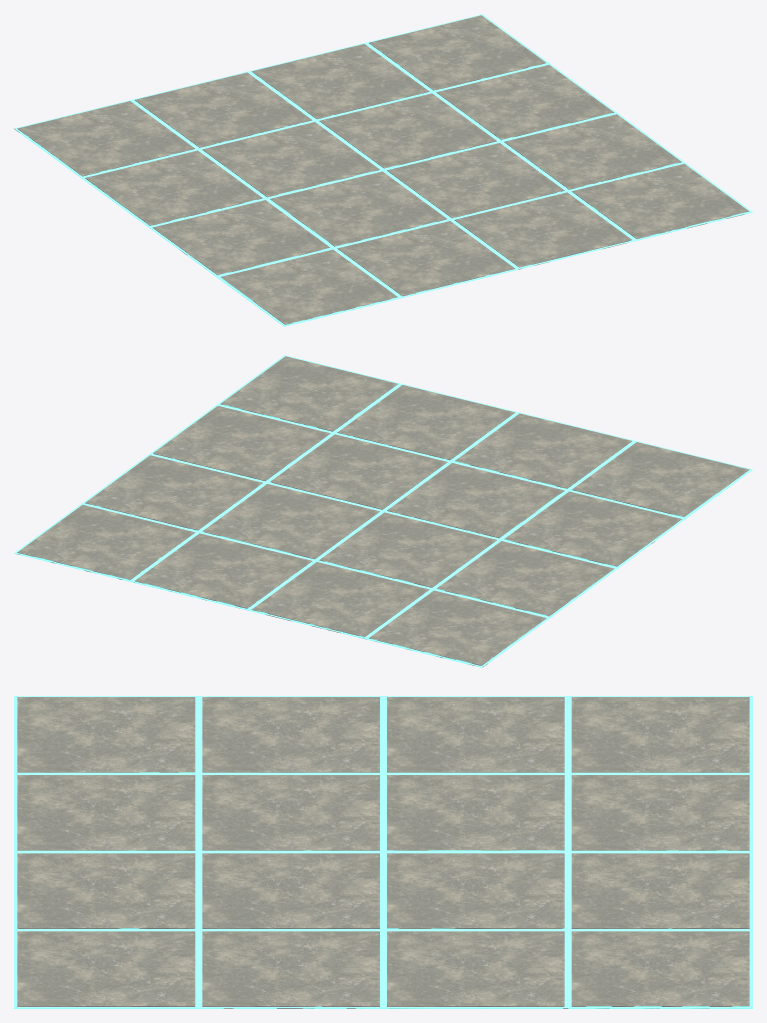
Rendered from concrete.glb.
The picture shows the model from 3 angles, top to bottom: view 1: azimuth 30°, elevation 25°; view 2: azimuth 150°, elevation 25°; view 3: azimuth 270°, elevation 25°; orthographic projection. The views are drawn at different scales.
Visible parts, largest first — view 1: concrete; view 2: concrete; view 3: concrete.
Part boxes in pixels (x1,y1,x2,y2): concrete: (14,14,752,326); concrete: (14,355,752,667); concrete: (14,696,752,1008).
Size of what is drawn, in the model's own units: 64 by 0.1 by 64.
Materials: 1 (1 with a texture image).
